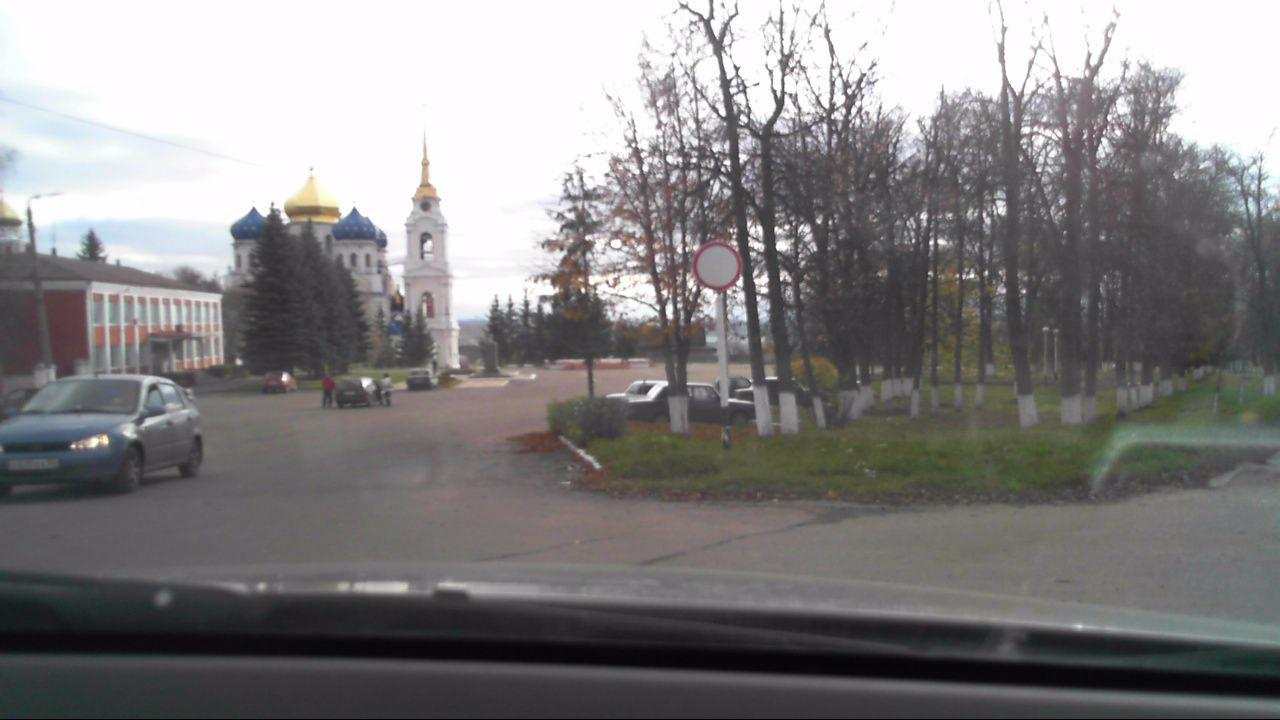3_2: (690, 241, 743, 292)
